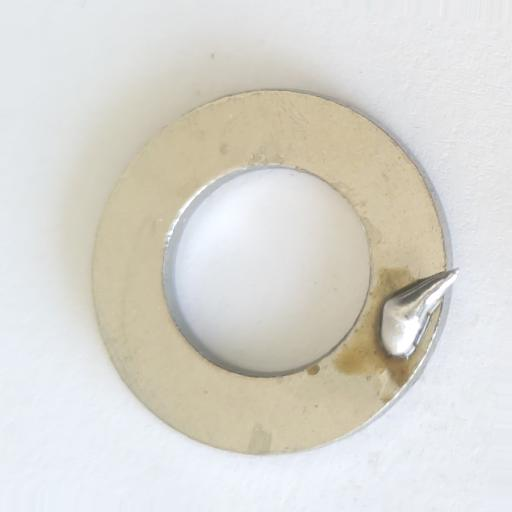excess_material: (378, 268, 461, 362)
